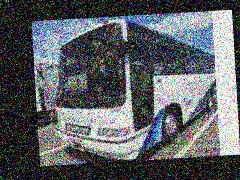bus: (51, 12, 220, 163)
